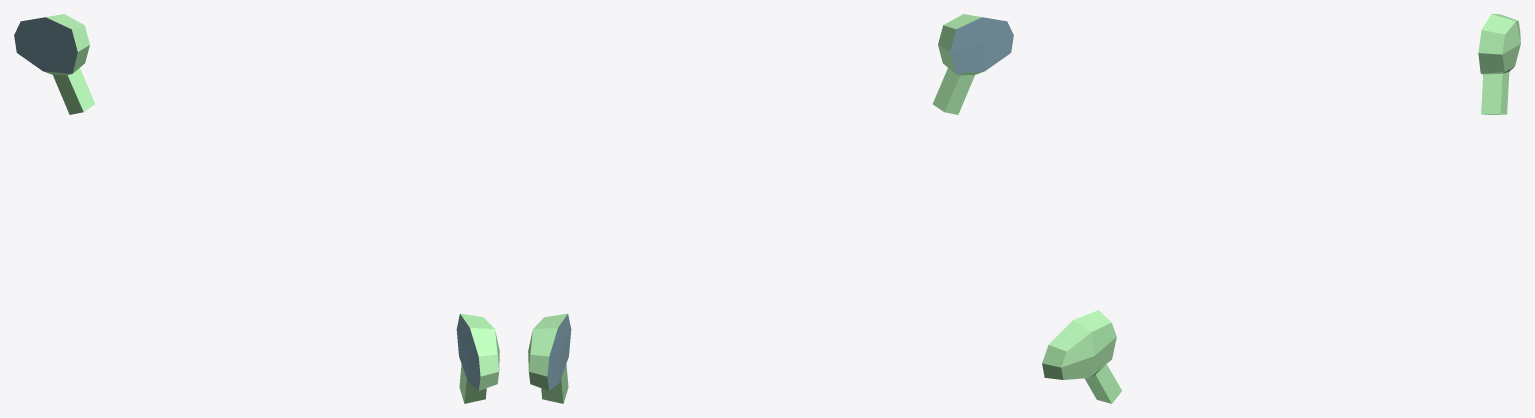
The model's file is Dodge Challenger RearViewMirror.fbx.
The picture shows the model from 3 angles, left to right: view 1: azimuth 30°, elevation 25°; view 2: azimuth 150°, elevation 25°; view 3: azimuth 330°, elevation 25°; orthographic projection.
Parts seen in each view (by area): view 1: RearViewMirror; view 2: RearViewMirror; view 3: RearViewMirror.
Part boxes in pixels (bbox=[...]): RearViewMirror: bbox=[14, 14, 499, 403]; RearViewMirror: bbox=[528, 14, 1013, 403]; RearViewMirror: bbox=[1042, 14, 1520, 403].
Size of the model in its own units: 10.66 by 22.73 by 215.
